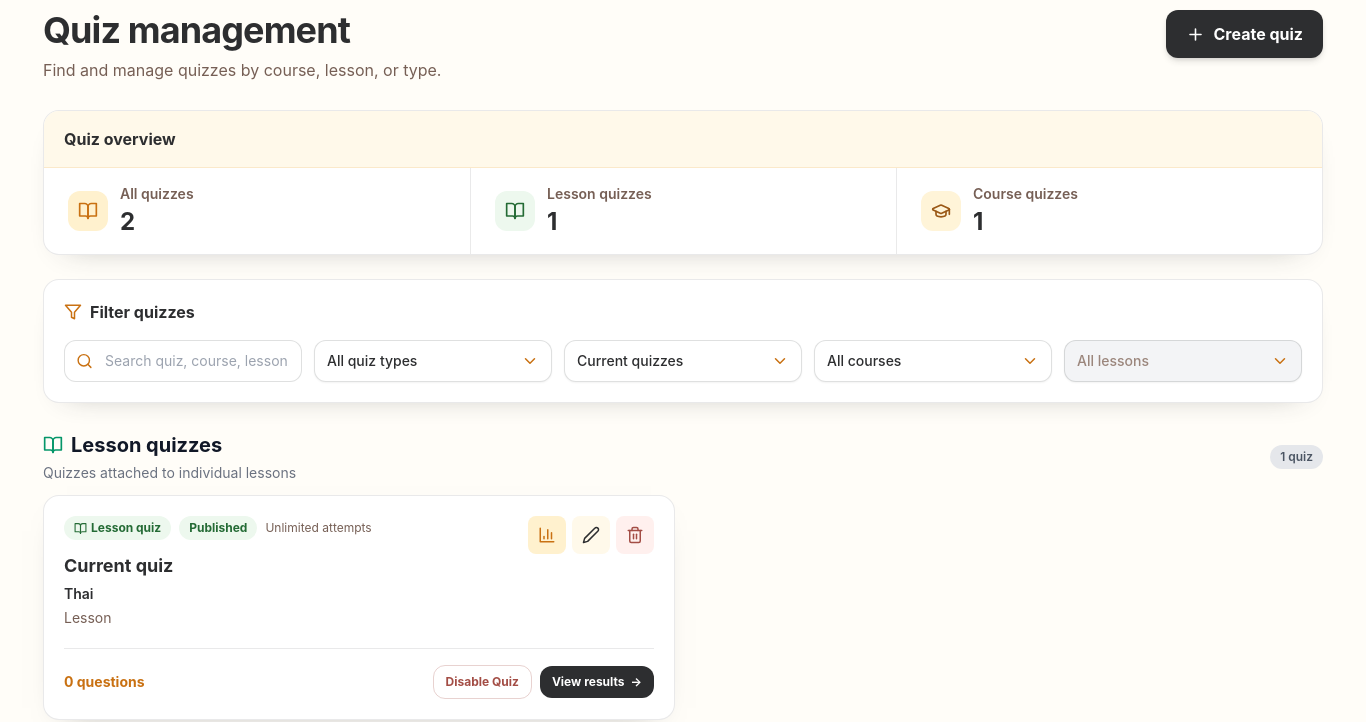
Test case: Quiz Management archived recovery › finds an archived Quiz and restores it as disabled without publishing
This screenshot has width=1366, height=722.
Expected: the heading "Current quiz" is shown, [64,555,173,576]
Expected: the text "Archived quiz" is not shown
Click the button with aria-label "Quiz status" at coordinates (683, 361), box [564,340,802,382]
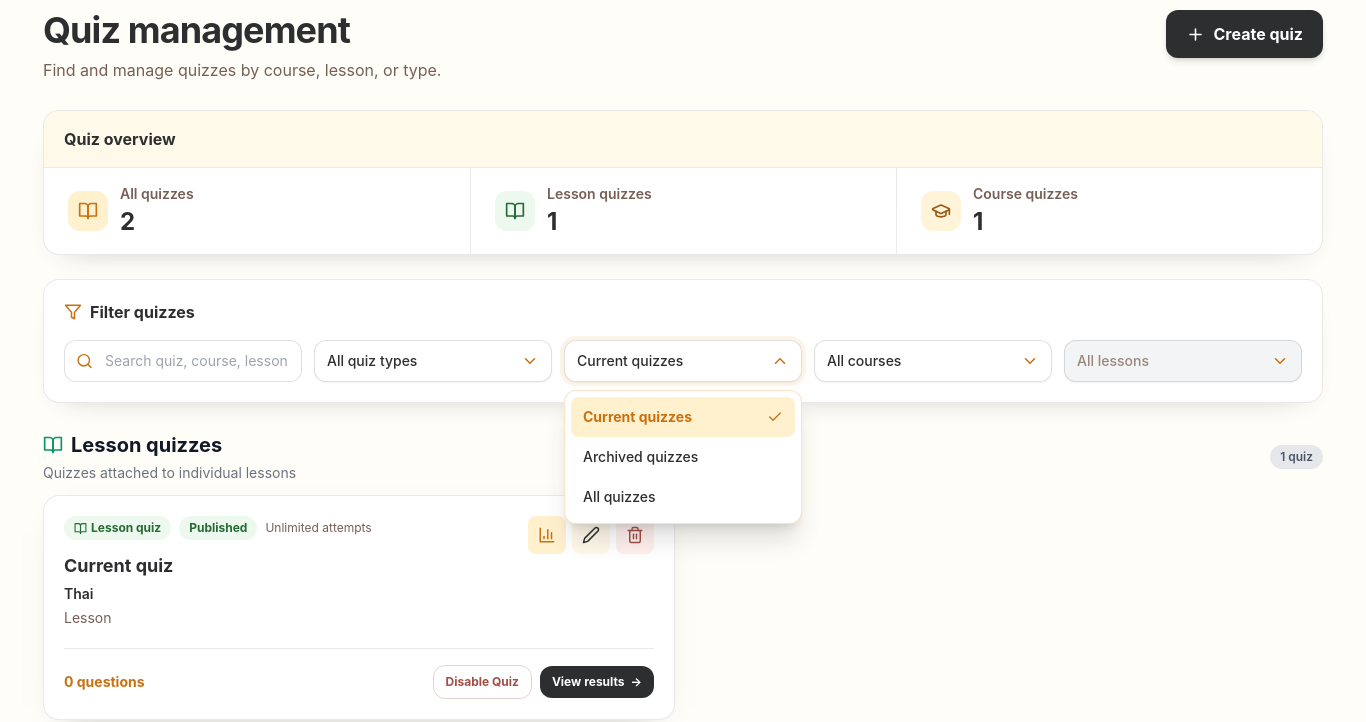
Click the option "Archived quizzes" at coordinates (683, 457), box [571,437,795,477]
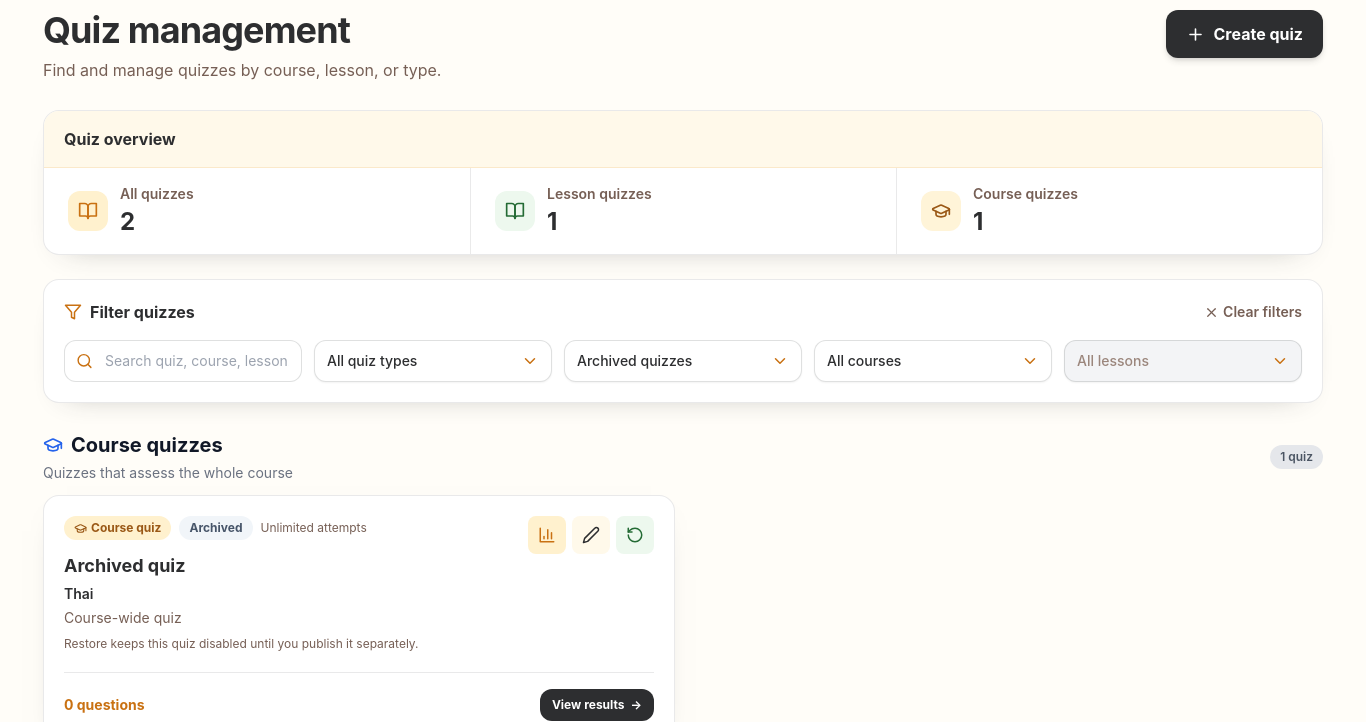
Result: the heading "Archived quiz" is shown at [64,555,186,576]
Click the button named "Restore quiz as disabled" at coordinates (635, 535), box [616,516,654,554]
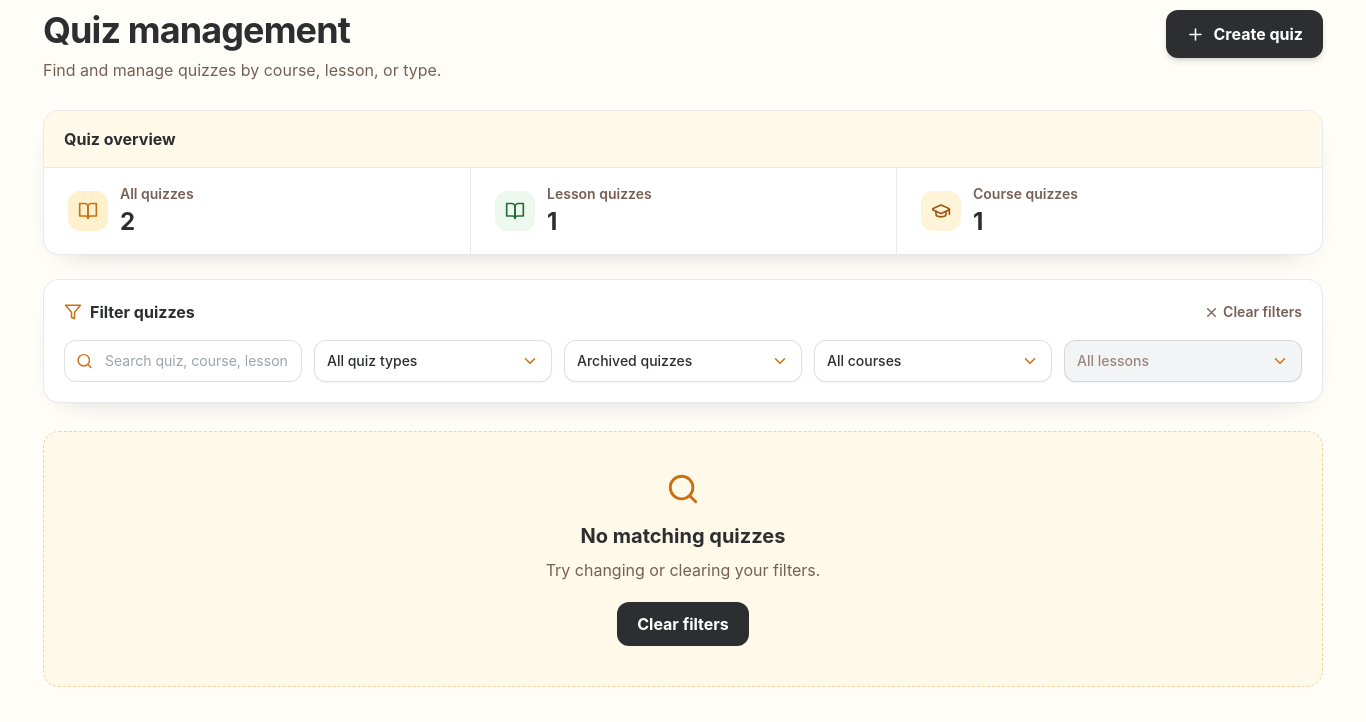
Click the button with aria-label "Quiz status" at coordinates (683, 361), box [564,340,802,382]
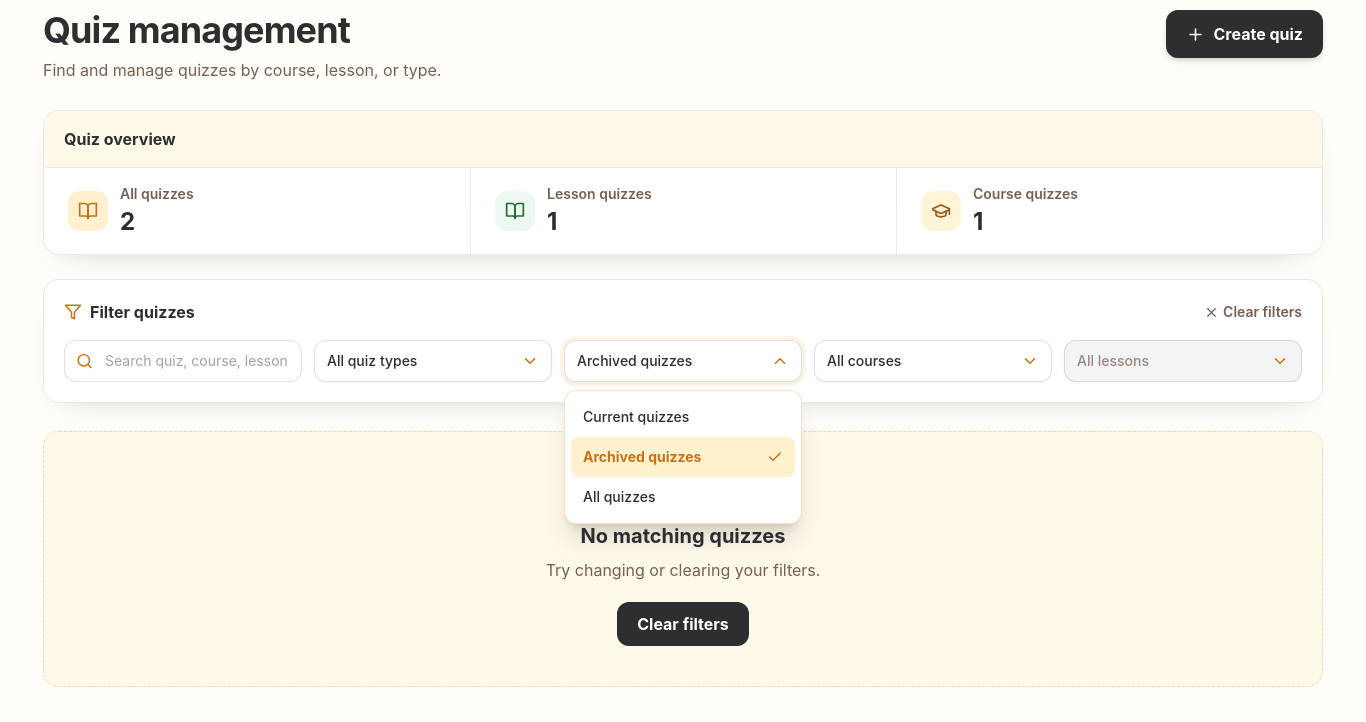
Click the option "Current quizzes" at coordinates (683, 417), box [571,397,795,437]
(page scrolled)
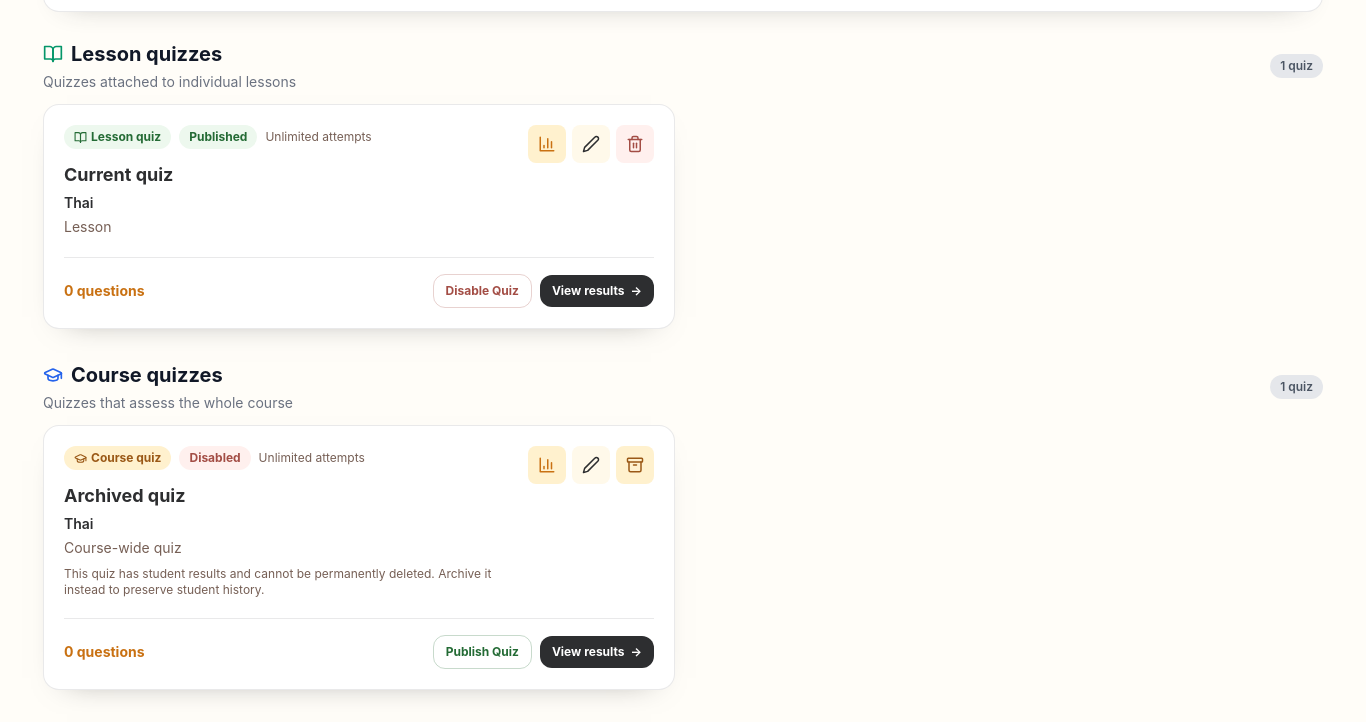
Result: the heading "Archived quiz" is shown at [64,485,186,506]
Result: the button "Publish Quiz" is shown at [433,635,532,669]
